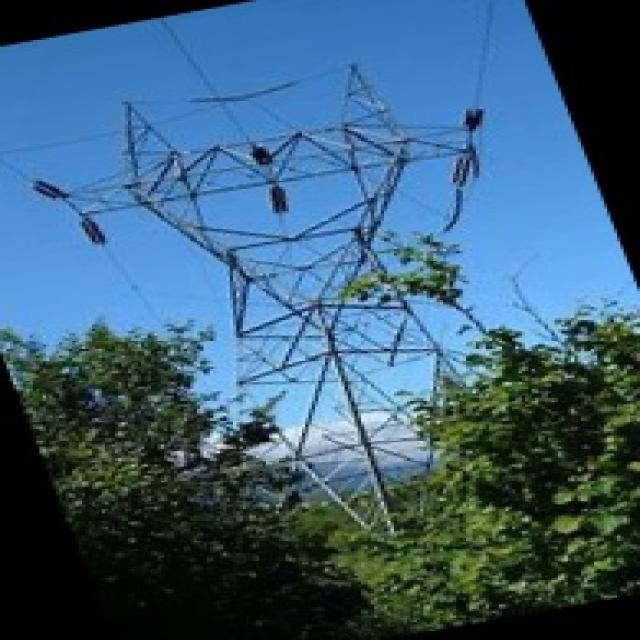utility poles: (330, 244, 581, 434), (106, 331, 330, 515)
